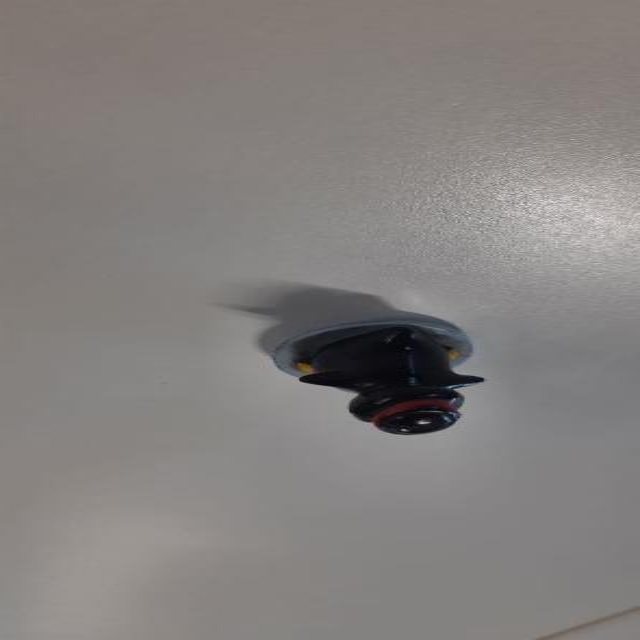Penguin: (267, 312, 484, 440)
